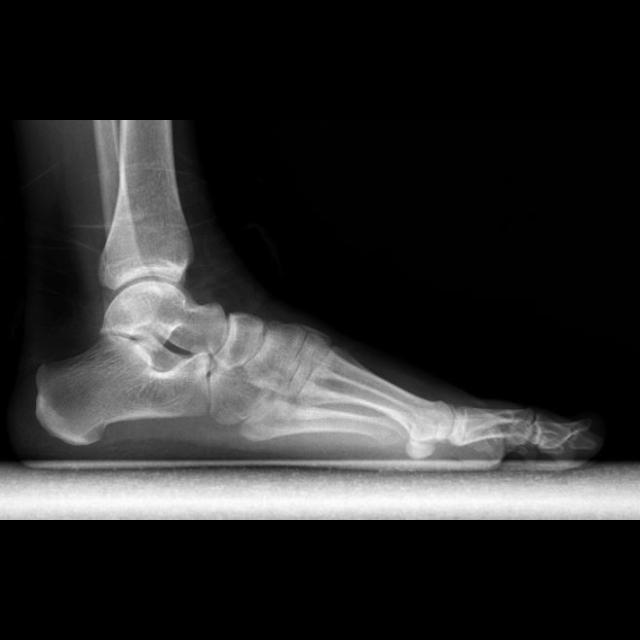a: (35, 338, 210, 446)
b: (220, 313, 266, 369)
c: (288, 348, 453, 441)
